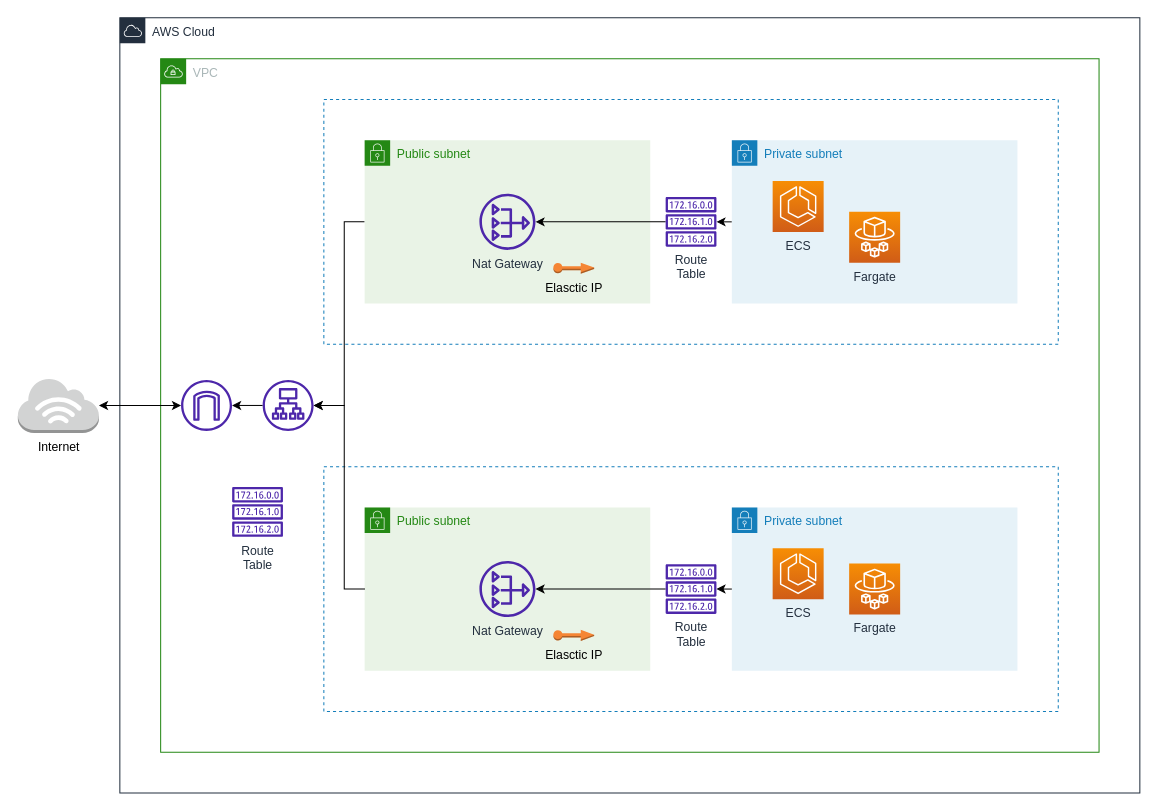
This 1158x811 diagram has some shape labels left out. Each missing label, with the box of its shape:
ALB: (262, 379, 313, 430)
Availability Zone ap-northeast-1a: (323, 98, 1058, 344)
Availability Zone ap-northeast-1c: (323, 466, 1058, 711)
Internet Gateway: (181, 379, 232, 430)
